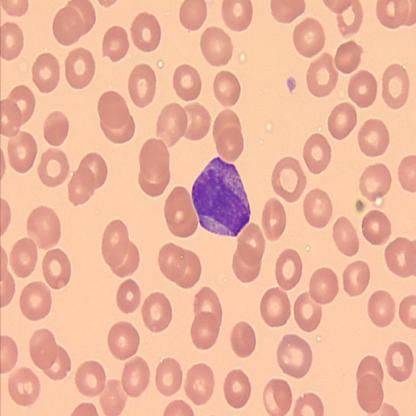Myelocyte: (192, 155, 254, 236)
